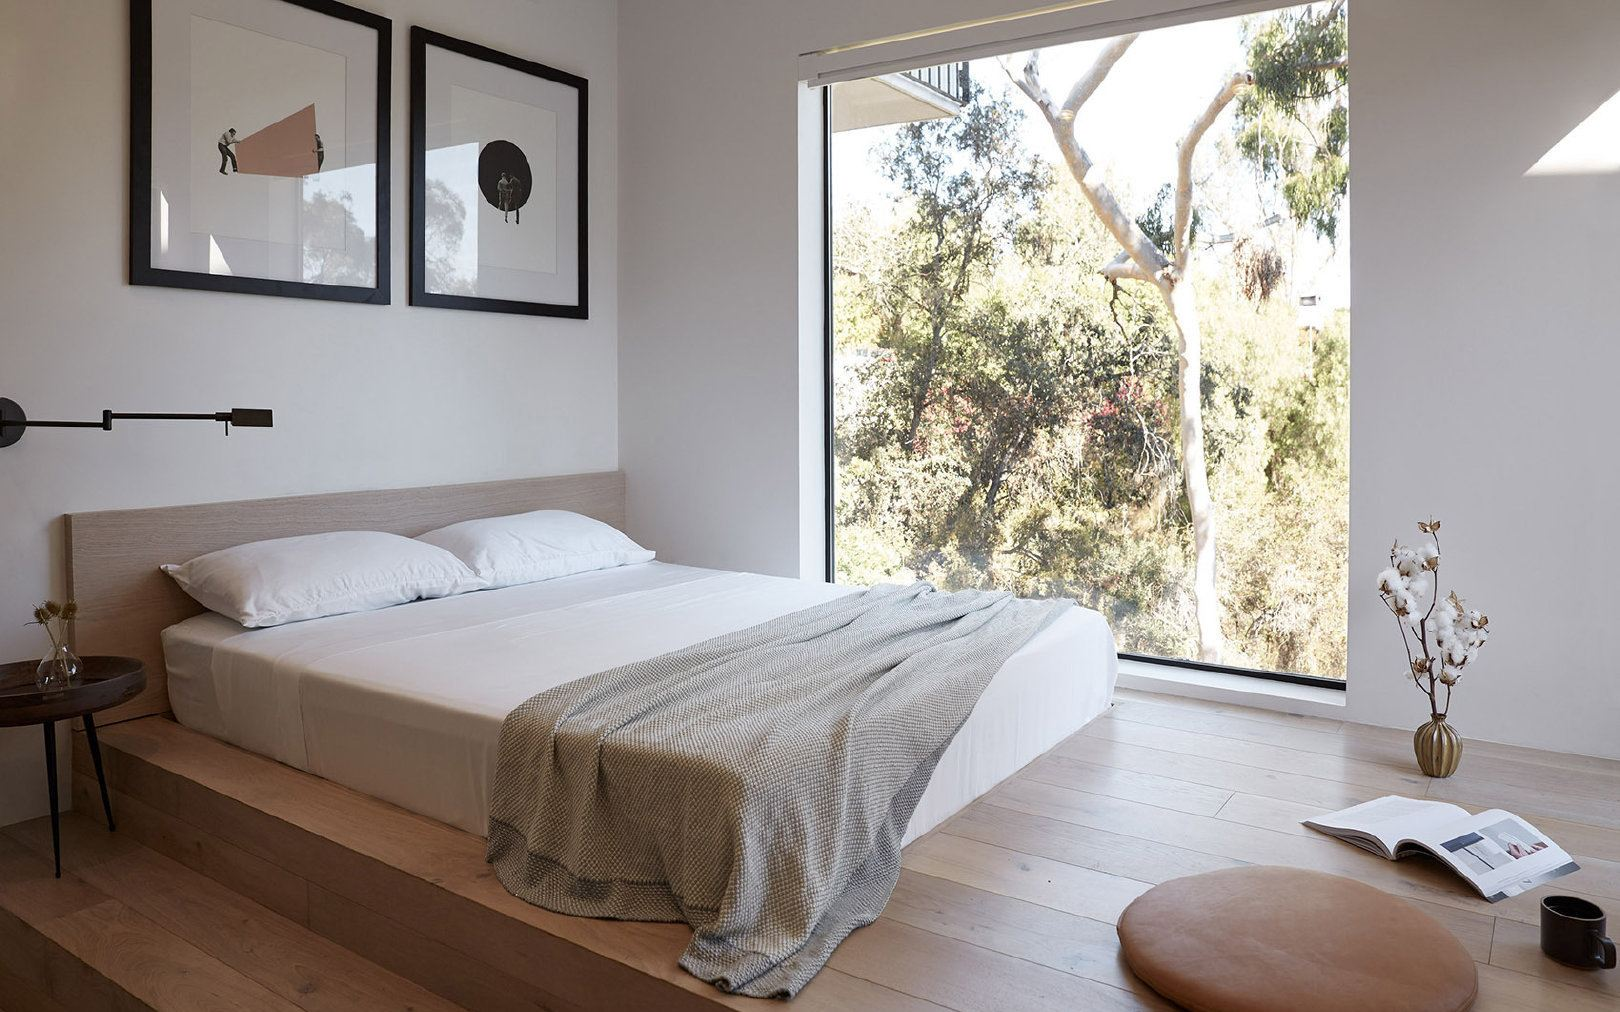床: (140, 565, 1153, 935)
枕头: (188, 503, 658, 630)
